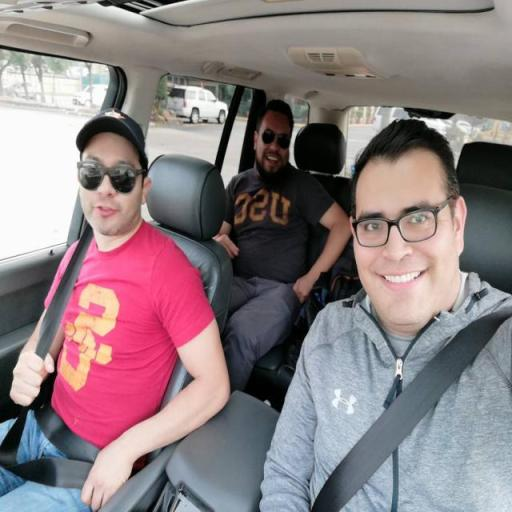Under Armour: (328, 384, 359, 418)
